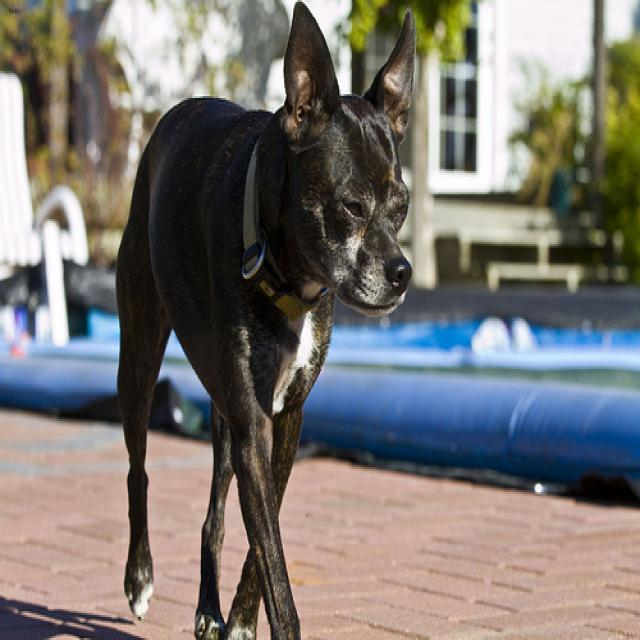dog-miniature_pinscher: (111, 2, 424, 636)
